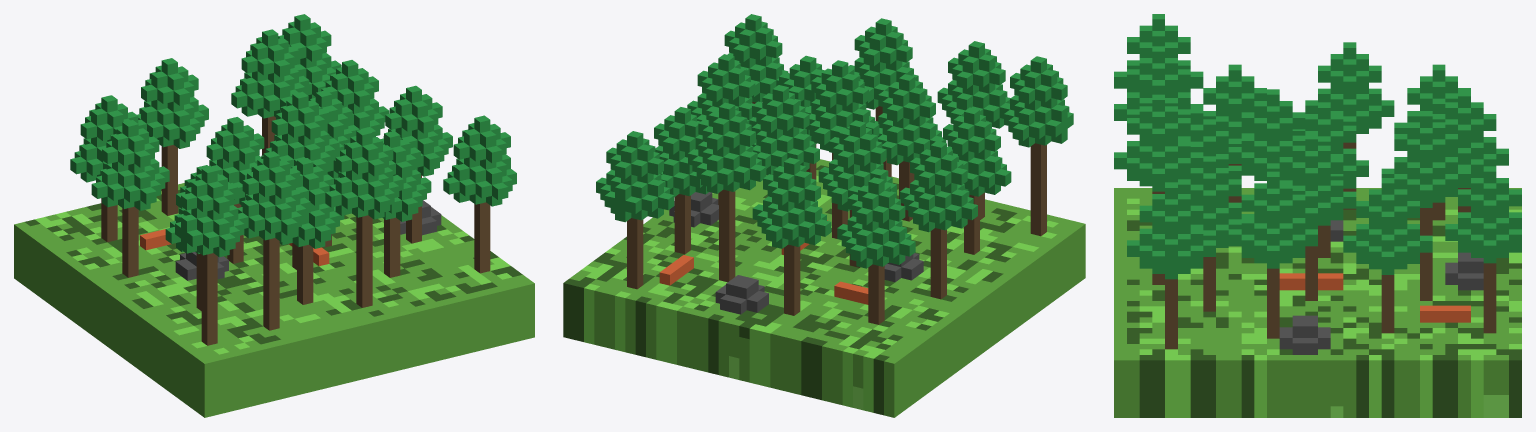
File: Plaines Map-5.obj
The picture shows the model from 3 angles, left to right: view 1: azimuth 30°, elevation 25°; view 2: azimuth 150°, elevation 25°; view 3: azimuth 270°, elevation 25°; orthographic projection. The views are drawn at different scales.
Size of the model in its own units: 3.2 by 2.1 by 3.2.
Materials: 1 (1 with a texture image).
